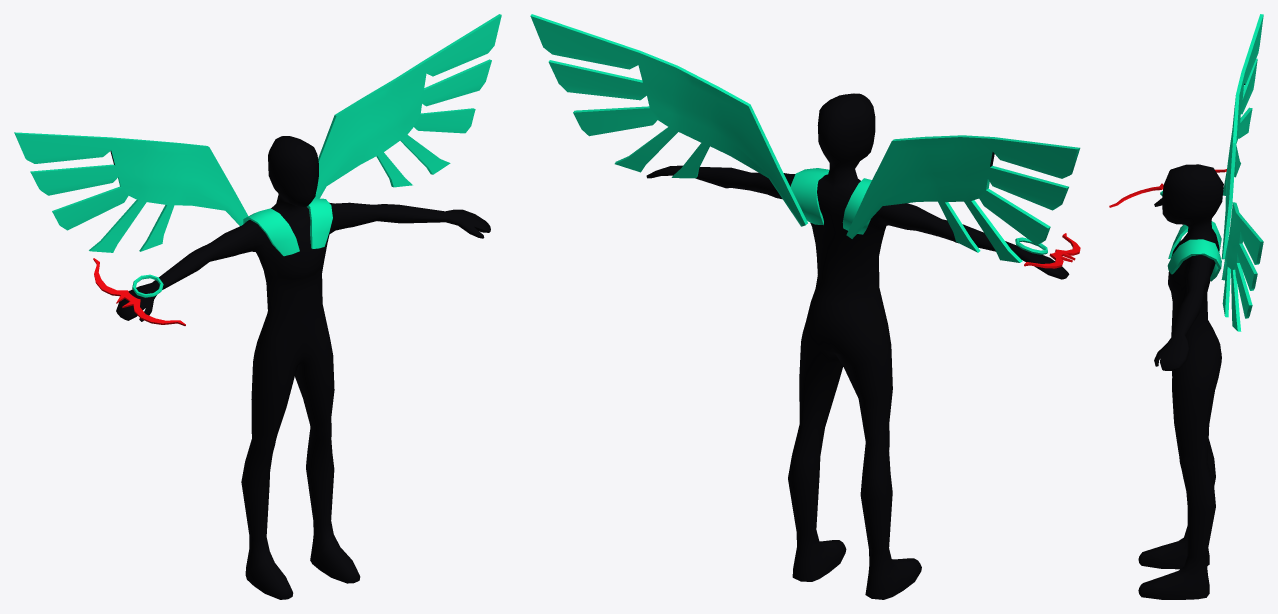
File: Arroware2.fbx
The picture shows the model from 3 angles, left to right: view 1: azimuth 30°, elevation 25°; view 2: azimuth 150°, elevation 25°; view 3: azimuth 270°, elevation 25°; orthographic projection. The views are drawn at different scales.
Parts seen in each view (by area): view 1: EnemigoArrow001; view 2: EnemigoArrow001; view 3: EnemigoArrow001.
Part boxes in pixels (x1,y1,x2,y2): EnemigoArrow001: [14, 14, 501, 599]; EnemigoArrow001: [530, 14, 1080, 599]; EnemigoArrow001: [1109, 14, 1263, 599].
Size of the model in its own units: 55.44 by 51.29 by 15.91.
